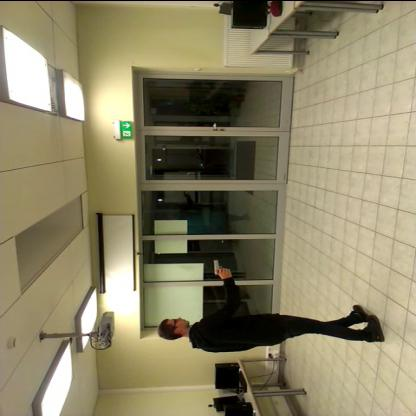Pistol: (209, 254, 238, 278)
